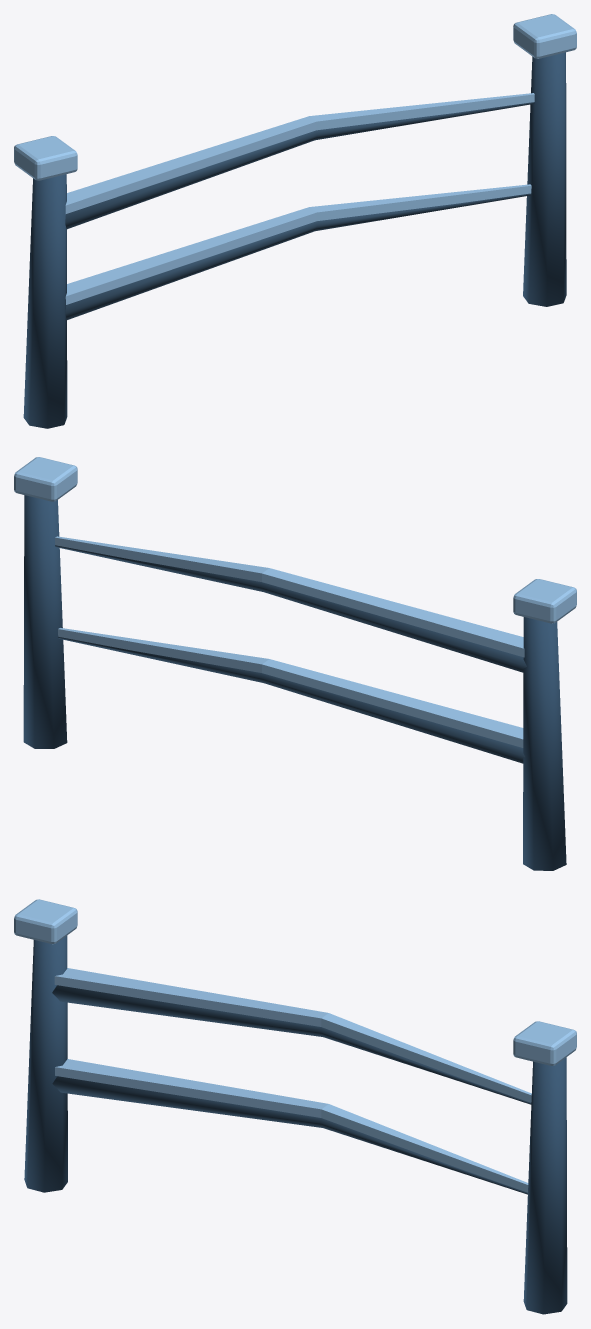
The model's file is fence_short.glb.
3 renders of one model, top to bottom at view 1: azimuth 30°, elevation 25°; view 2: azimuth 150°, elevation 25°; view 3: azimuth 330°, elevation 25°, orthographic.
Visible parts, largest first — view 1: Near; view 2: Near; view 3: Near.
Boxes of the visible parts, x1,y1,x2,y2 form: Near: (14, 14, 576, 428); Near: (14, 457, 576, 870); Near: (14, 899, 576, 1314).
Bounding box in the file's own units: 2.93 × 1.41 × 0.23.
